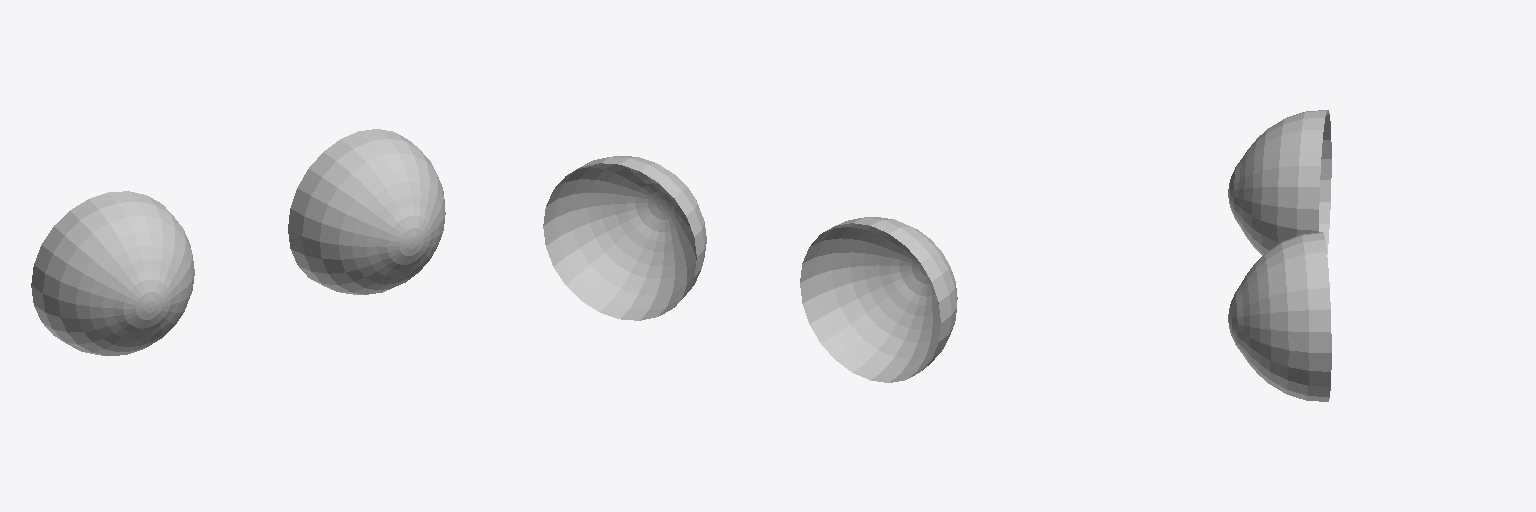
Rendered from tifa_eye.obj.
3 views of the same model, side by side, from view 1: azimuth 30°, elevation 25°; view 2: azimuth 150°, elevation 25°; view 3: azimuth 270°, elevation 25° (orthographic).
Visible parts, largest first — view 1: PC0002_01_Eye; view 2: PC0002_01_Eye; view 3: PC0002_01_Eye.
Part boxes in pixels (bbox=[...]): PC0002_01_Eye: bbox=[31, 129, 445, 355]; PC0002_01_Eye: bbox=[543, 156, 957, 382]; PC0002_01_Eye: bbox=[1228, 110, 1331, 401].
Size of the model in its own units: 0.0928 by 0.0345 by 0.0209.